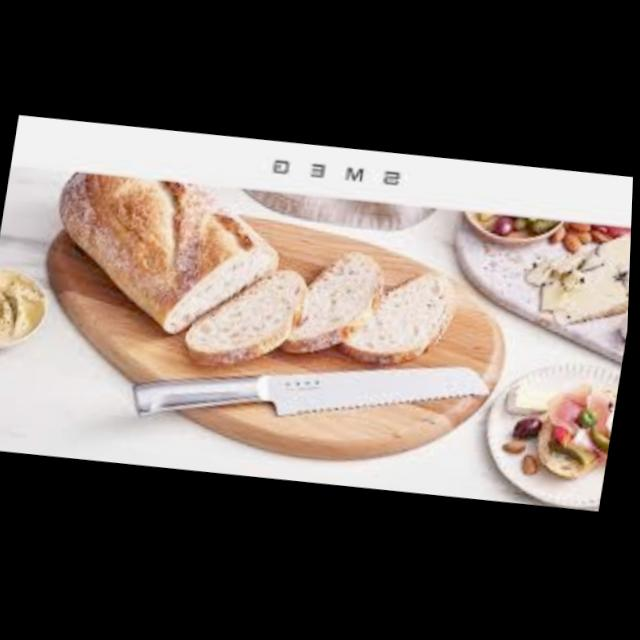knife: (131, 328, 497, 459)
